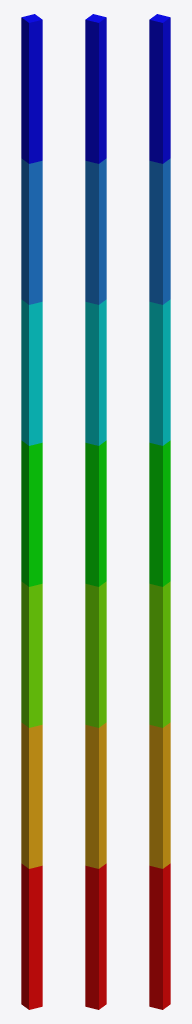
The model's file is fail4.dae.
The picture shows the model from 3 angles, left to right: view 1: azimuth 30°, elevation 25°; view 2: azimuth 150°, elevation 25°; view 3: azimuth 330°, elevation 25°; orthographic projection.
Parts seen in each view (by area): view 1: SNAKE-SAMPLE-BODYSET8_node, SNAKE-SAMPLE-BODYSET2_node, SNAKE-SAMPLE-BODYSET3_node, SNAKE-SAMPLE-BODYSET4_node, SNAKE-SAMPLE-BODYSET5_node, SNAKE-SAMPLE-BODYSET6_node, SNAKE-SAMPLE-BODYSET7_node; view 2: SNAKE-SAMPLE-BODYSET8_node, SNAKE-SAMPLE-BODYSET2_node, SNAKE-SAMPLE-BODYSET3_node, SNAKE-SAMPLE-BODYSET4_node, SNAKE-SAMPLE-BODYSET5_node, SNAKE-SAMPLE-BODYSET6_node, SNAKE-SAMPLE-BODYSET7_node; view 3: SNAKE-SAMPLE-BODYSET8_node, SNAKE-SAMPLE-BODYSET2_node, SNAKE-SAMPLE-BODYSET3_node, SNAKE-SAMPLE-BODYSET4_node, SNAKE-SAMPLE-BODYSET5_node, SNAKE-SAMPLE-BODYSET6_node, SNAKE-SAMPLE-BODYSET7_node.
Boxes of the visible parts, box(x1,y1,x2,y2) form: SNAKE-SAMPLE-BODYSET8_node: box(21, 14, 42, 163); SNAKE-SAMPLE-BODYSET2_node: box(21, 863, 42, 1009); SNAKE-SAMPLE-BODYSET3_node: box(21, 722, 42, 868); SNAKE-SAMPLE-BODYSET4_node: box(21, 581, 42, 727); SNAKE-SAMPLE-BODYSET5_node: box(21, 440, 42, 586); SNAKE-SAMPLE-BODYSET6_node: box(21, 299, 42, 445); SNAKE-SAMPLE-BODYSET7_node: box(21, 158, 42, 304); SNAKE-SAMPLE-BODYSET8_node: box(85, 14, 106, 163); SNAKE-SAMPLE-BODYSET2_node: box(85, 863, 106, 1009); SNAKE-SAMPLE-BODYSET3_node: box(85, 722, 106, 868); SNAKE-SAMPLE-BODYSET4_node: box(85, 581, 106, 727); SNAKE-SAMPLE-BODYSET5_node: box(85, 440, 106, 586); SNAKE-SAMPLE-BODYSET6_node: box(85, 299, 106, 445); SNAKE-SAMPLE-BODYSET7_node: box(85, 158, 106, 304); SNAKE-SAMPLE-BODYSET8_node: box(149, 14, 170, 163); SNAKE-SAMPLE-BODYSET2_node: box(149, 863, 170, 1009); SNAKE-SAMPLE-BODYSET3_node: box(149, 722, 170, 868); SNAKE-SAMPLE-BODYSET4_node: box(149, 581, 170, 727); SNAKE-SAMPLE-BODYSET5_node: box(149, 440, 170, 586); SNAKE-SAMPLE-BODYSET6_node: box(149, 299, 170, 445); SNAKE-SAMPLE-BODYSET7_node: box(149, 158, 170, 304).
Size of the model in its own units: 100 by 100 by 7000.
